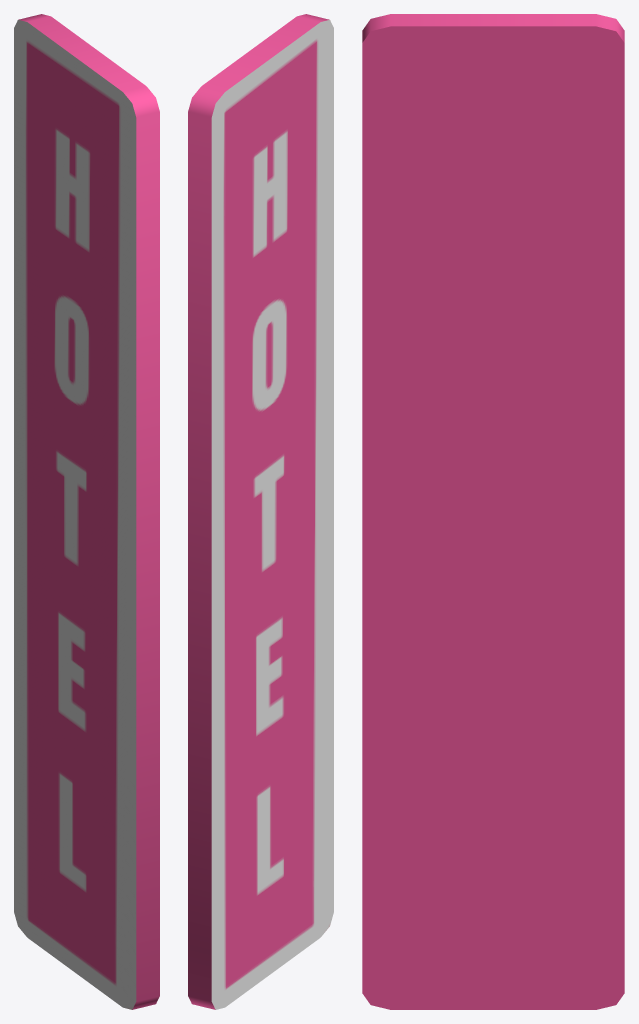
Rendered from Sign_32.glb.
3 renders of one model, left to right at view 1: azimuth 30°, elevation 25°; view 2: azimuth 150°, elevation 25°; view 3: azimuth 270°, elevation 25°, orthographic. The views are drawn at different scales.
Parts seen in each view (by area): view 1: Sign_32; view 2: Sign_32; view 3: Sign_32.
Boxes of the visible parts, bbox=[...] form: Sign_32: bbox=[14, 14, 159, 1009]; Sign_32: bbox=[188, 14, 333, 1009]; Sign_32: bbox=[362, 14, 624, 1009].
Size of the model in its own units: 0.0739 by 2.73 by 0.6591.
1 material, 1 textured.
